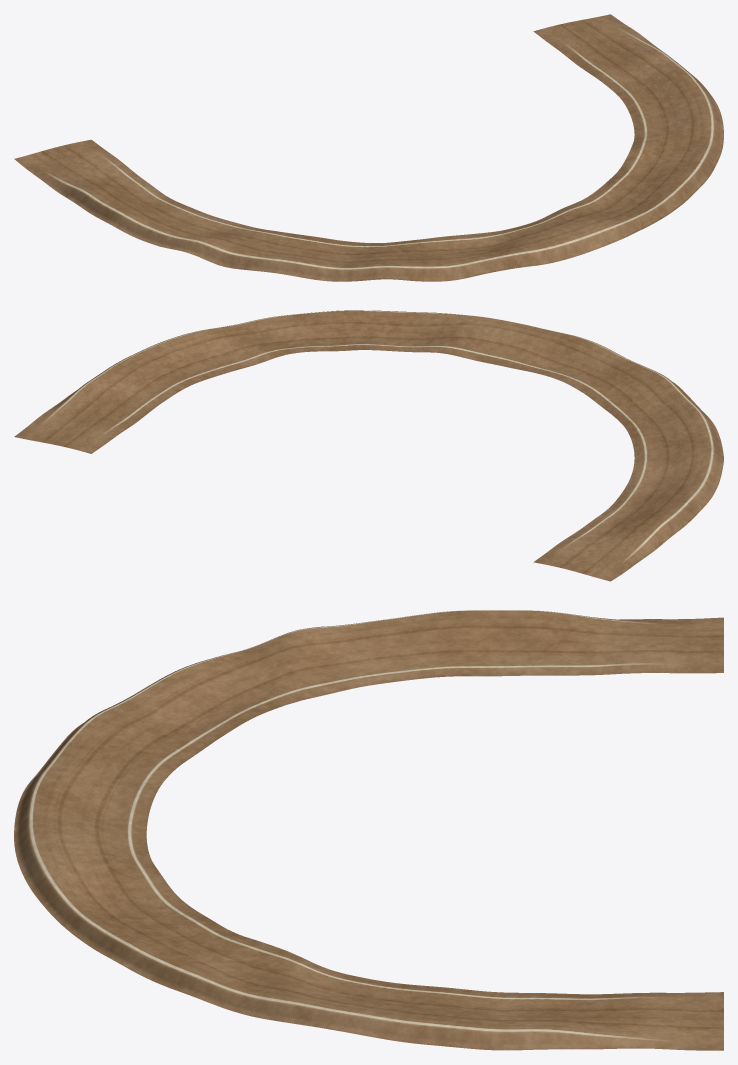
The model's file is WestBankedTurn.obj.
3 views of the same model, one above another, from view 1: azimuth 30°, elevation 25°; view 2: azimuth 150°, elevation 25°; view 3: azimuth 270°, elevation 25° (orthographic). The views are drawn at different scales.
Parts seen in each view (by area): view 1: WestBankedTurn; view 2: WestBankedTurn; view 3: WestBankedTurn.
Boxes of the visible parts, <box> form: WestBankedTurn: <box>14,14,723,281</box>; WestBankedTurn: <box>14,310,723,581</box>; WestBankedTurn: <box>14,610,723,1050</box>.
Bounding box in the file's own units: 77 × 1.91 × 53.5.
Materials: 1 (1 with a texture image).
